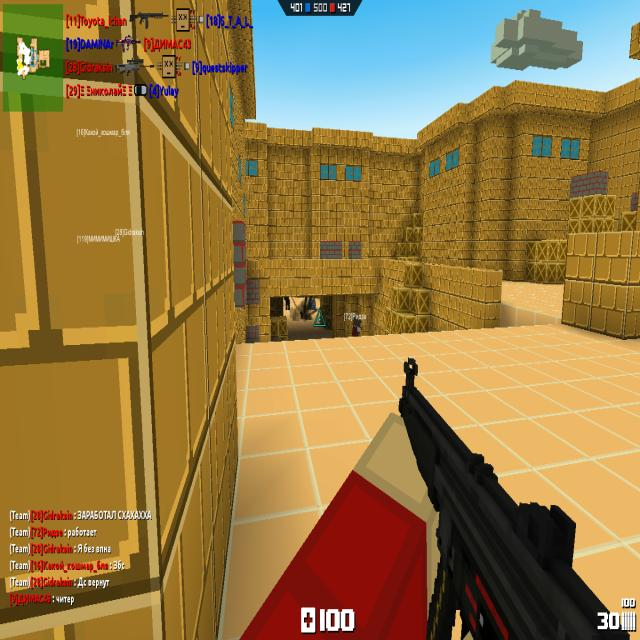enemy: (284, 297, 290, 310)
